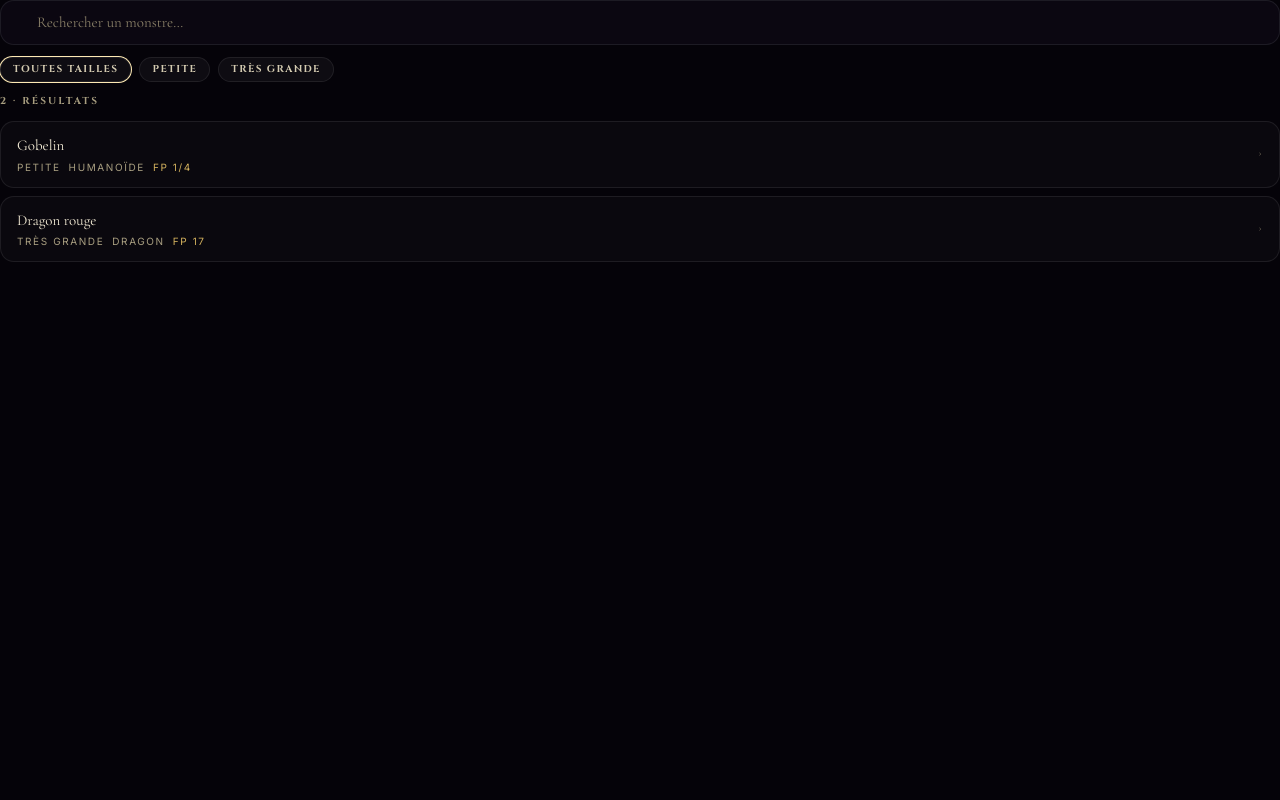
Test: MonsterBrowser (Codex) › FP fractionnaire 1/8 et 1/2 affichés en fraction
Click the text "Dragon rouge". click: (57, 220)
box: [17,210,96,228]
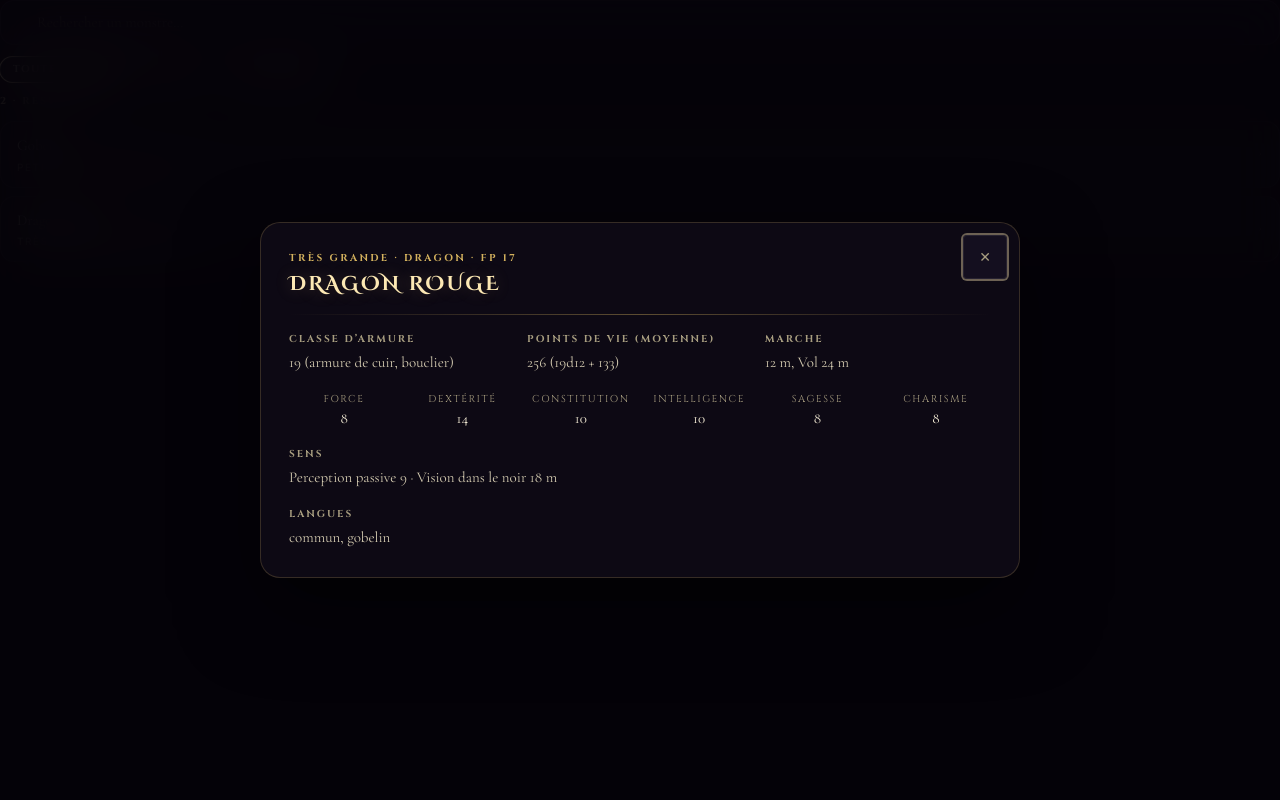
Expected: the text "Très grande · dragon · FP 17" is shown, [289,251,517,265]
Expected: the text "12 m, Vol 24 m" is shown, [765,353,849,371]
